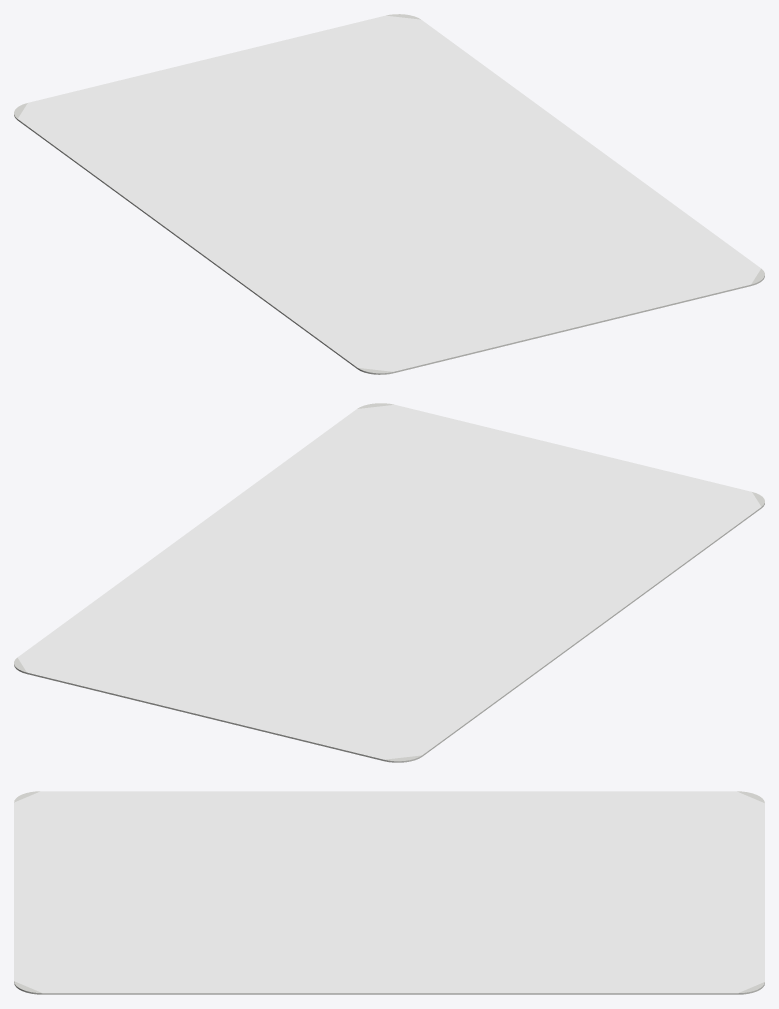
Rendered from playingcardmodel.fbx.
The picture shows the model from 3 angles, top to bottom: view 1: azimuth 30°, elevation 25°; view 2: azimuth 150°, elevation 25°; view 3: azimuth 270°, elevation 25°; orthographic projection. The views are drawn at different scales.
Visible parts, largest first — view 1: pCube1; view 2: pCube1; view 3: pCube1.
Part boxes in pixels (<box>): pCube1: <box>14,14,764,374</box>; pCube1: <box>14,403,764,762</box>; pCube1: <box>14,791,764,994</box>.
Size of the model in its own units: 5.6 by 0.02 by 8.8.
